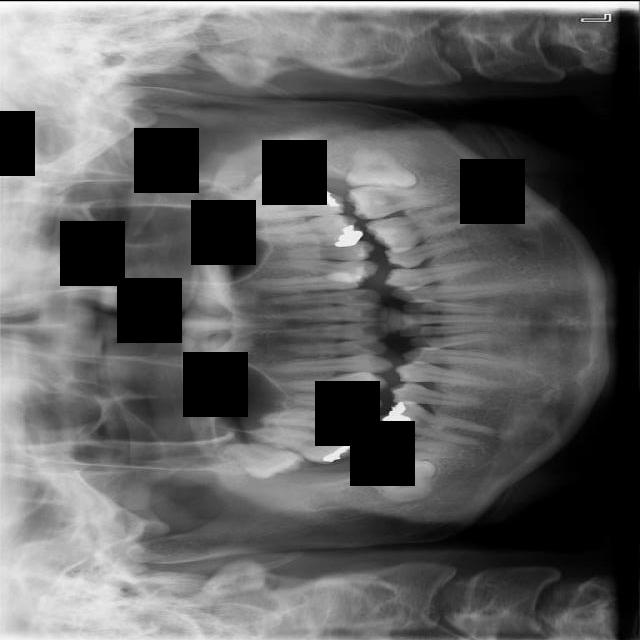3M ESPE Implant: (217, 437, 307, 487)
52: (370, 387, 435, 452), (295, 424, 364, 473), (341, 175, 397, 227), (358, 428, 411, 470), (287, 185, 347, 218), (307, 213, 364, 246), (319, 407, 375, 438)
73: (598, 38, 612, 41)
BioHorizons Implant: (235, 184, 347, 224)
BioLife Implant: (220, 164, 317, 212)
Biomet 3i Implant: (344, 144, 422, 196)
Blue Sky Bio Implant: (344, 184, 454, 221)
Caries: (247, 423, 360, 468)
Implant: (359, 431, 477, 465)
Keystone Dental Implant: (363, 457, 436, 502)
